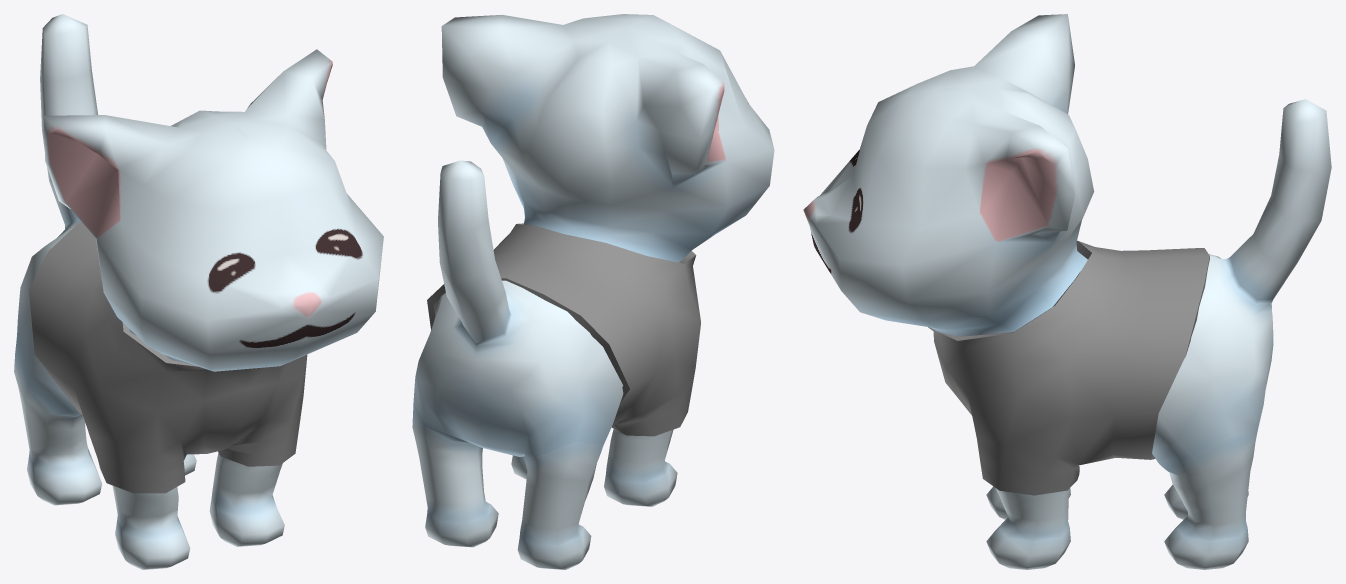
The model's file is Org Cat05.fbx.
The picture shows the model from 3 angles, left to right: view 1: azimuth 30°, elevation 25°; view 2: azimuth 150°, elevation 25°; view 3: azimuth 270°, elevation 25°; orthographic projection. The views are drawn at different scales.
Parts seen in each view (by area): view 1: Cat_Base004, tshirt001; view 2: Cat_Base004, tshirt001; view 3: Cat_Base004, tshirt001.
Boxes of the visible parts, x1,y1,x2,y2 form: Cat_Base004: (14,14,383,569); tshirt001: (29,221,307,493); Cat_Base004: (412,14,774,569); tshirt001: (427,223,700,436); Cat_Base004: (803,14,1331,569); tshirt001: (928,240,1209,495).
Bounding box in the file's own units: 1.75 × 2.83 × 2.68.
2 materials, 1 textured.
